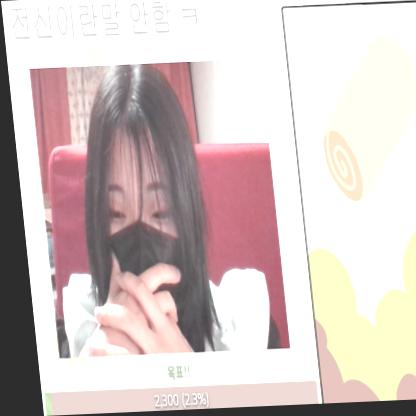streamer: (28, 60, 272, 357)
